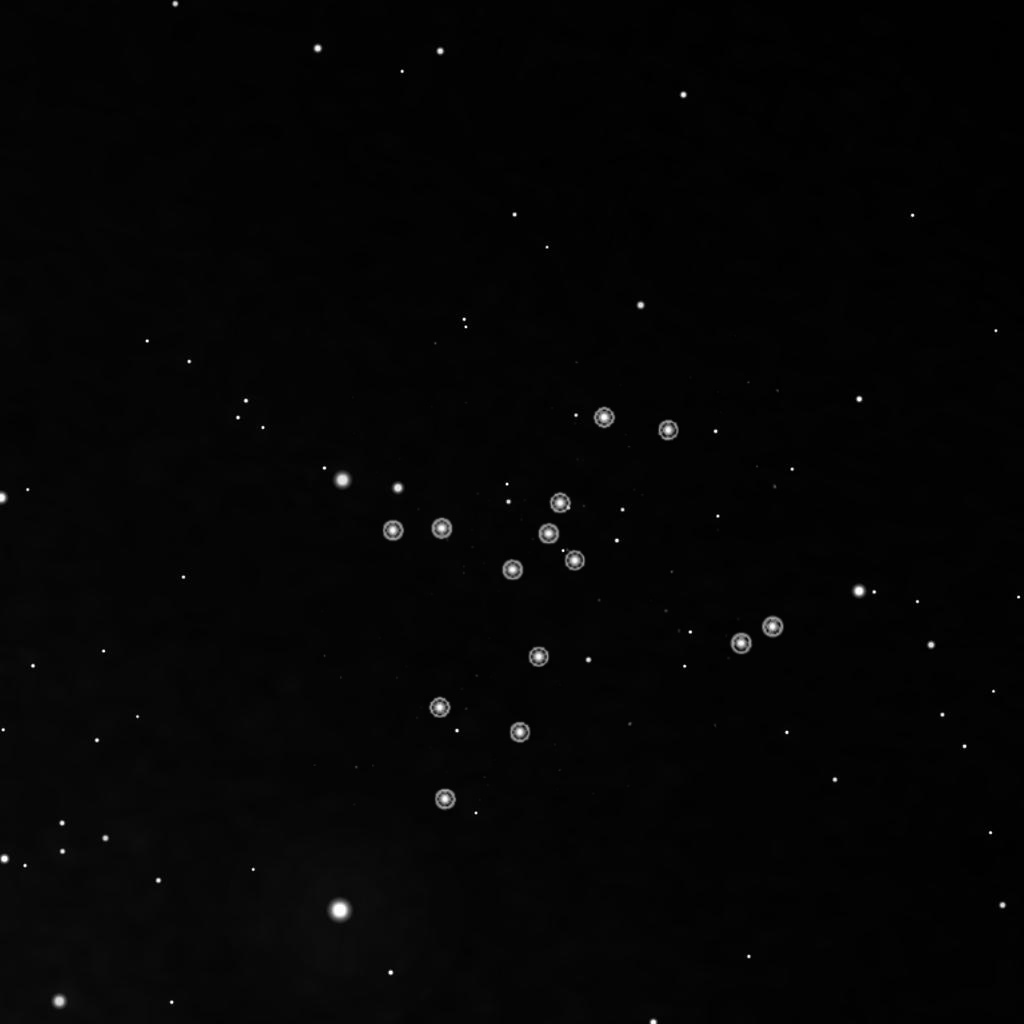canis_major: (497, 403, 689, 590)
